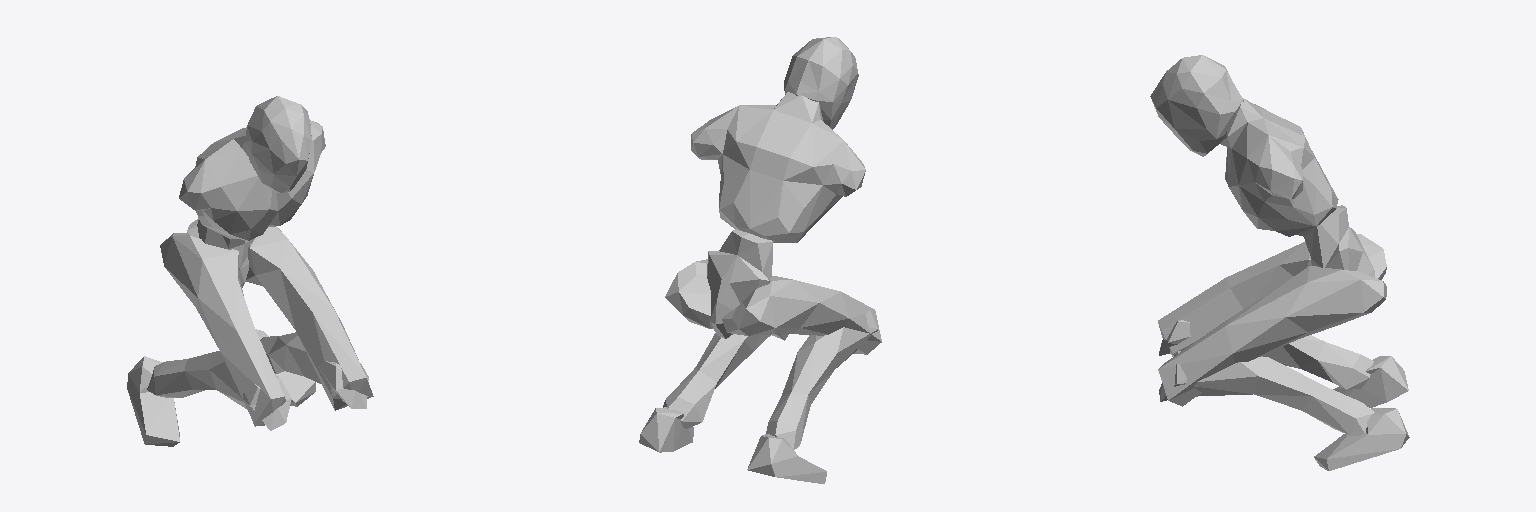
Rendered from filth56.obj.
3 renders of one model, left to right at view 1: azimuth 30°, elevation 25°; view 2: azimuth 150°, elevation 25°; view 3: azimuth 270°, elevation 25°, orthographic.
Visible parts, largest first — view 1: Melee_Husk; view 2: Melee_Husk; view 3: Melee_Husk.
Part boxes in pixels (left/top/right/bottom): Melee_Husk: left=127, top=96, right=373, bottom=446; Melee_Husk: left=639, top=37, right=881, bottom=483; Melee_Husk: left=1150, top=55, right=1409, bottom=470.
Bounding box in the file's own units: 22.16 × 48.23 × 29.4.